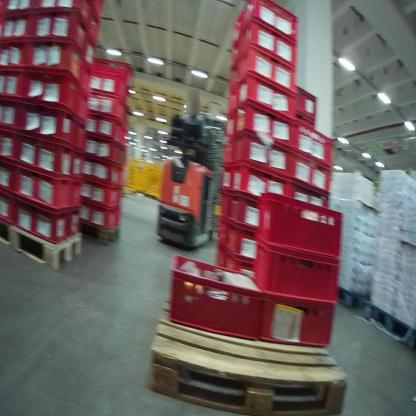pallet: (138, 270, 349, 414), (1, 217, 83, 268), (360, 292, 415, 359), (80, 217, 122, 245), (334, 286, 369, 312)
pallet_truck: (149, 105, 217, 253)
small_load_carrier: (165, 249, 267, 344), (255, 188, 349, 265), (254, 224, 350, 292), (252, 280, 342, 349), (24, 57, 85, 121), (237, 18, 298, 69), (237, 72, 297, 122), (18, 127, 74, 178), (235, 102, 294, 150), (230, 162, 291, 208), (10, 195, 70, 241), (233, 132, 294, 177), (27, 39, 84, 87), (15, 163, 72, 211), (235, 50, 298, 93), (18, 99, 76, 143), (31, 11, 84, 58), (294, 118, 334, 176), (243, 3, 299, 43), (87, 52, 136, 91), (290, 151, 331, 195), (227, 192, 267, 236), (79, 146, 120, 186), (32, 2, 89, 30), (286, 179, 331, 212), (227, 219, 264, 258), (83, 106, 123, 140), (85, 71, 124, 104), (84, 87, 123, 120), (79, 176, 118, 208), (83, 131, 119, 163), (221, 249, 259, 277), (78, 198, 113, 227), (2, 34, 29, 69), (1, 92, 22, 132), (294, 84, 316, 122), (0, 16, 32, 41), (2, 147, 18, 193), (0, 124, 17, 167), (1, 69, 23, 101), (0, 2, 35, 22), (80, 35, 98, 66), (214, 191, 231, 222), (220, 114, 236, 146), (231, 5, 243, 43), (230, 29, 242, 67), (220, 162, 235, 192), (66, 206, 81, 236), (0, 188, 13, 222), (221, 141, 236, 170), (74, 117, 86, 153), (80, 60, 91, 95), (216, 216, 227, 248), (215, 239, 226, 270), (71, 150, 83, 177), (69, 181, 80, 210), (90, 6, 99, 41), (227, 65, 237, 92), (227, 90, 237, 116)
